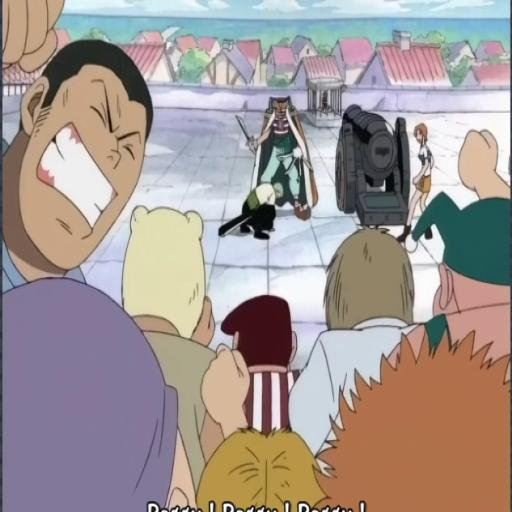Nami: (411, 113, 435, 264)
Zoro: (220, 170, 288, 250)
